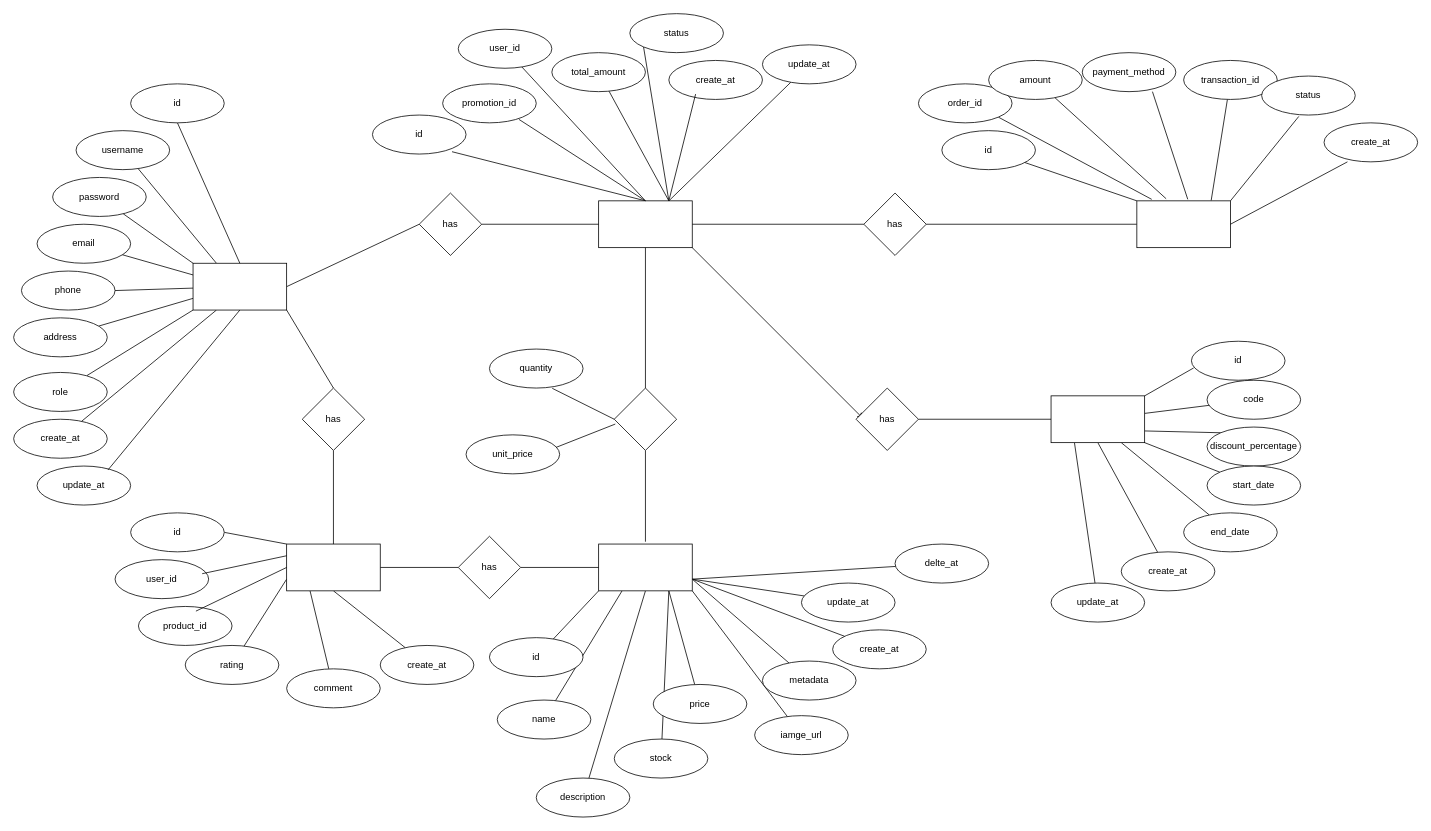
This 1431x831 diagram has some shape labels left out. Each missing label, with the centre of its shape:
OrderItem: the point at 645,418
Orders: the point at 645,224
Payments: the point at 1183,224
Products: the point at 645,567
Promotion: the point at 1097,419
Reviews: the point at 333,567
Users: the point at 239,286
